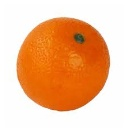orange: (14, 16, 111, 114)
